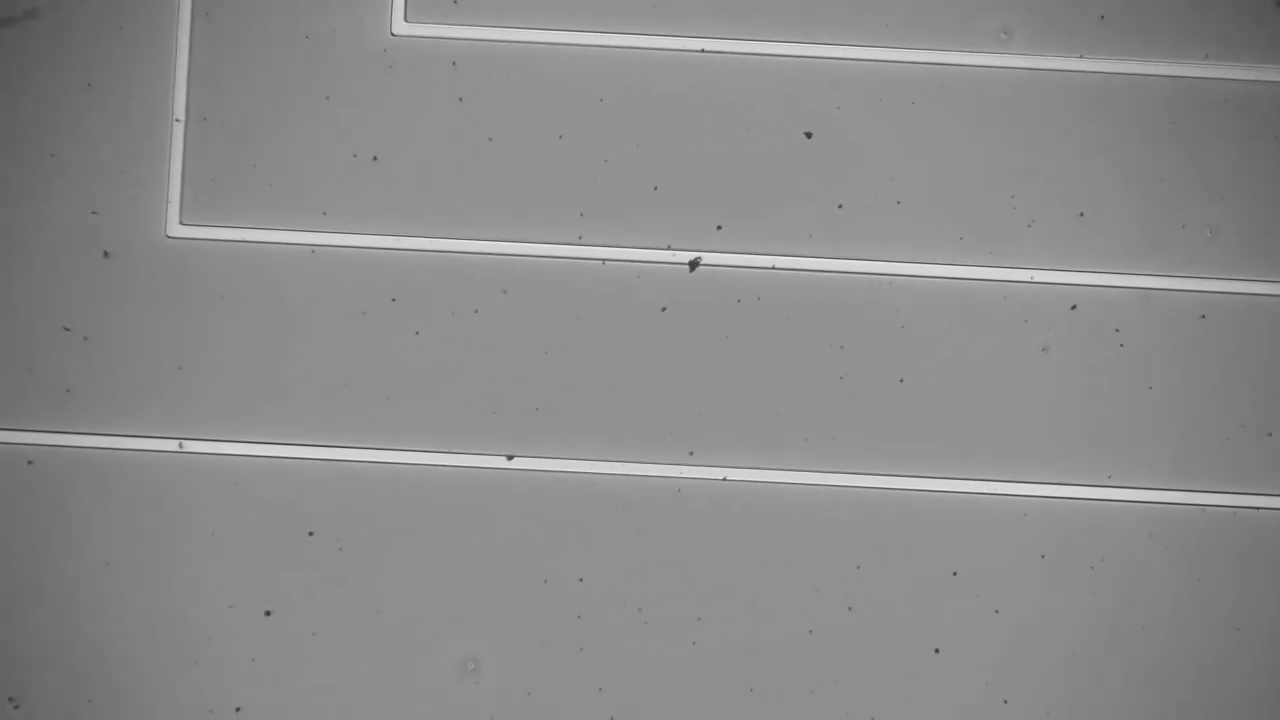stains_enbedded: (684, 234, 708, 281)
